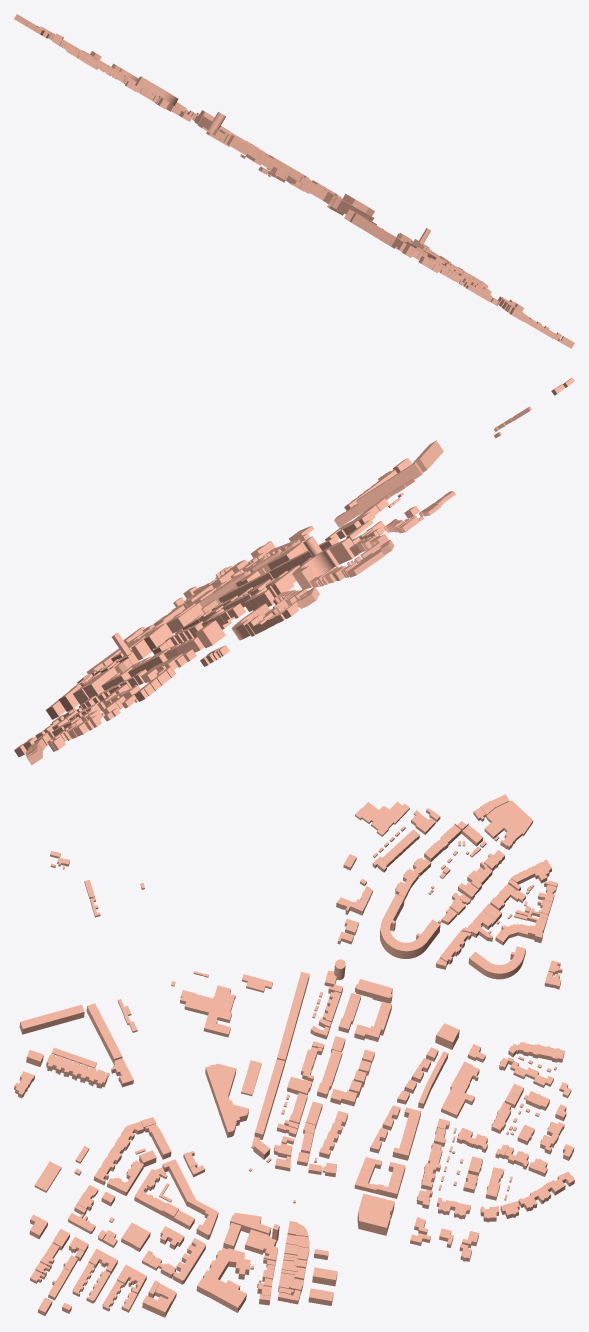
The picture shows the model from 3 angles, top to bottom: view 1: azimuth 30°, elevation 25°; view 2: azimuth 150°, elevation 25°; view 3: azimuth 270°, elevation 25°; orthographic projection. The views are drawn at different scales.
Bounding box in the file's own units: 530 × 390 × 612.
